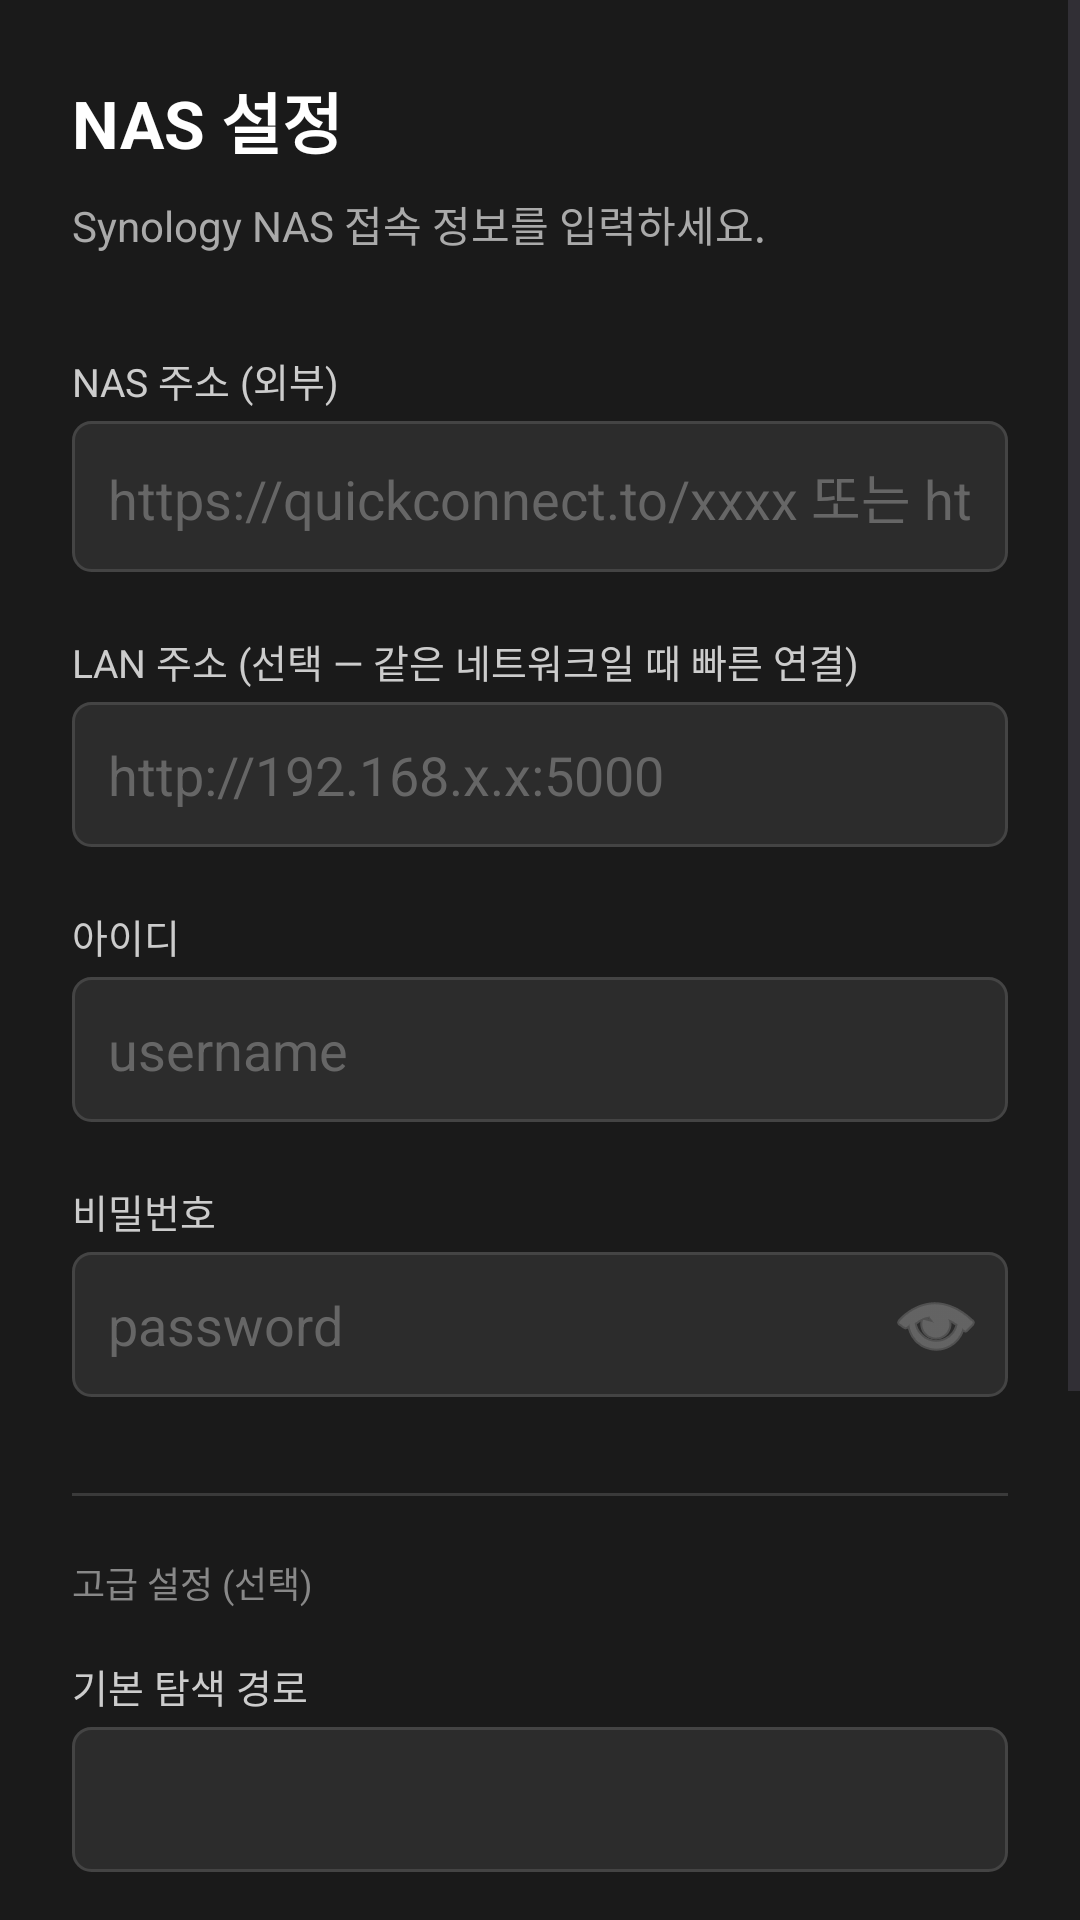

Icon bounding boxes for this 1080×1920 phone screenshot, format (x1, y1, x2, y2):
비밀번호 표시/숨기기: (897, 1302, 975, 1351)
